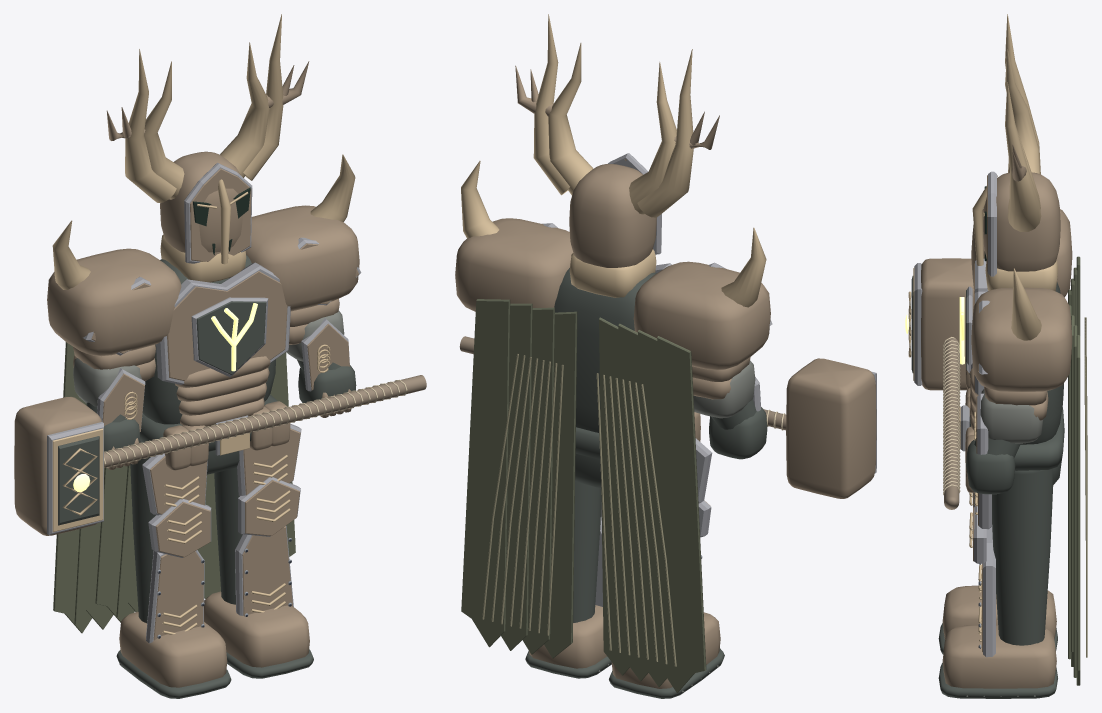
The model's file is khazglar.glb.
3 renders of one model, left to right at view 1: azimuth 30°, elevation 25°; view 2: azimuth 150°, elevation 25°; view 3: azimuth 270°, elevation 25°, orthographic. The views are drawn at different scales.
Visible parts, largest first — view 1: Left pauldron bronze shell, Right pauldron bronze shell, Massive forged hammer head, Left worn boot, Right worn boot, Large ornate bronze breastplate armour face, Long wrapped hammer shaft, Faceted bronze helmet shell, Recessed chest shield armour face, Left tattered cloak panel 1, Left shin bronze armour armour face, Right shin bronze armour armour face (+46 smaller); view 2: Left tattered cloak panel 3, Right tattered cloak panel 3, Massive forged hammer head, Left pauldron bronze shell, Right pauldron bronze shell, Right tattered cloak panel 0, Faceted bronze helmet shell, Right tattered cloak panel 2, Right tattered cloak panel 1, Left tattered cloak panel 2, Left tattered cloak panel 0, Left tattered cloak panel 1 (+36 smaller); view 3: Right flexible leg, Right pauldron bronze shell, Right worn boot, Massive forged hammer head, Faceted bronze helmet shell, Crown antler 1-1, Long wrapped hammer shaft, Right elbow bearing, Left worn boot, Right armoured glove, Right tattered cloak panel 3, Crown antler -1-0 (+24 smaller).
Boxes of the visible parts, bbox=[...] form: Left pauldron bronze shell: bbox=[47, 248, 181, 356]; Right pauldron bronze shell: bbox=[245, 205, 359, 311]; Massive forged hammer head: bbox=[14, 396, 101, 535]; Left worn boot: bbox=[119, 611, 227, 687]; Right worn boot: bbox=[204, 591, 309, 667]; Large ornate bronze breastplate armour face: bbox=[167, 271, 287, 380]; Long wrapped hammer shaft: bbox=[104, 375, 426, 467]; Faceted bronze helmet shell: bbox=[160, 151, 242, 252]; Recessed chest shield armour face: bbox=[196, 301, 266, 374]; Left tattered cloak panel 1: bbox=[95, 465, 134, 622]; Left shin bronze armour armour face: bbox=[153, 551, 203, 640]; Right shin bronze armour armour face: bbox=[242, 526, 292, 615]; Left tattered cloak panel 3: bbox=[657, 336, 706, 692]; Right tattered cloak panel 3: bbox=[461, 299, 510, 647]; Massive forged hammer head: bbox=[786, 358, 876, 498]; Left pauldron bronze shell: bbox=[633, 261, 770, 370]; Right pauldron bronze shell: bbox=[455, 218, 573, 311]; Right tattered cloak panel 0: bbox=[544, 311, 577, 658]; Faceted bronze helmet shell: bbox=[569, 164, 656, 267]; Right tattered cloak panel 2: bbox=[501, 303, 532, 650]; Right tattered cloak panel 1: bbox=[522, 307, 554, 654]; Left tattered cloak panel 2: bbox=[638, 330, 666, 686]; Left tattered cloak panel 0: bbox=[599, 317, 629, 675]; Left tattered cloak panel 1: bbox=[618, 323, 648, 681]; Right flexible leg: bbox=[992, 468, 1053, 645]; Right pauldron bronze shell: bbox=[971, 287, 1072, 391]; Right worn boot: bbox=[942, 625, 1056, 688]; Massive forged hammer head: bbox=[921, 258, 974, 390]; Faceted bronze helmet shell: bbox=[983, 172, 1060, 271]; Crown antler 1-1: bbox=[1005, 82, 1041, 231]; Long wrapped hammer shaft: bbox=[944, 338, 959, 509]; Right elbow bearing: bbox=[980, 389, 1043, 443]; Left worn boot: bbox=[942, 585, 1056, 639]; Right armoured glove: bbox=[966, 440, 1015, 494]; Right tattered cloak panel 3: bbox=[1076, 335, 1080, 685]; Crown antler -1-0: bbox=[1005, 49, 1040, 173].
Size of the model in its own units: 3.45 by 5.26 by 1.41.
